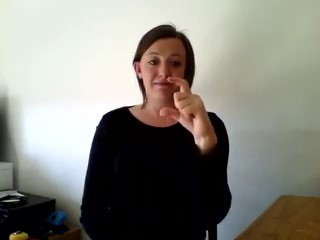C: (157, 71, 213, 133)
